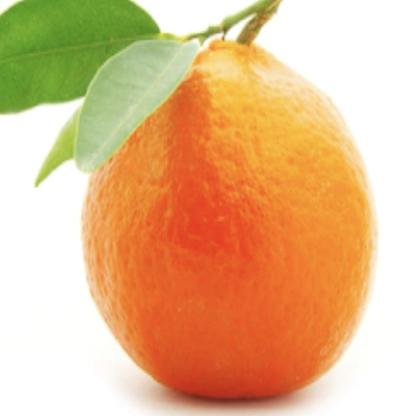fresh: (82, 28, 368, 404)
